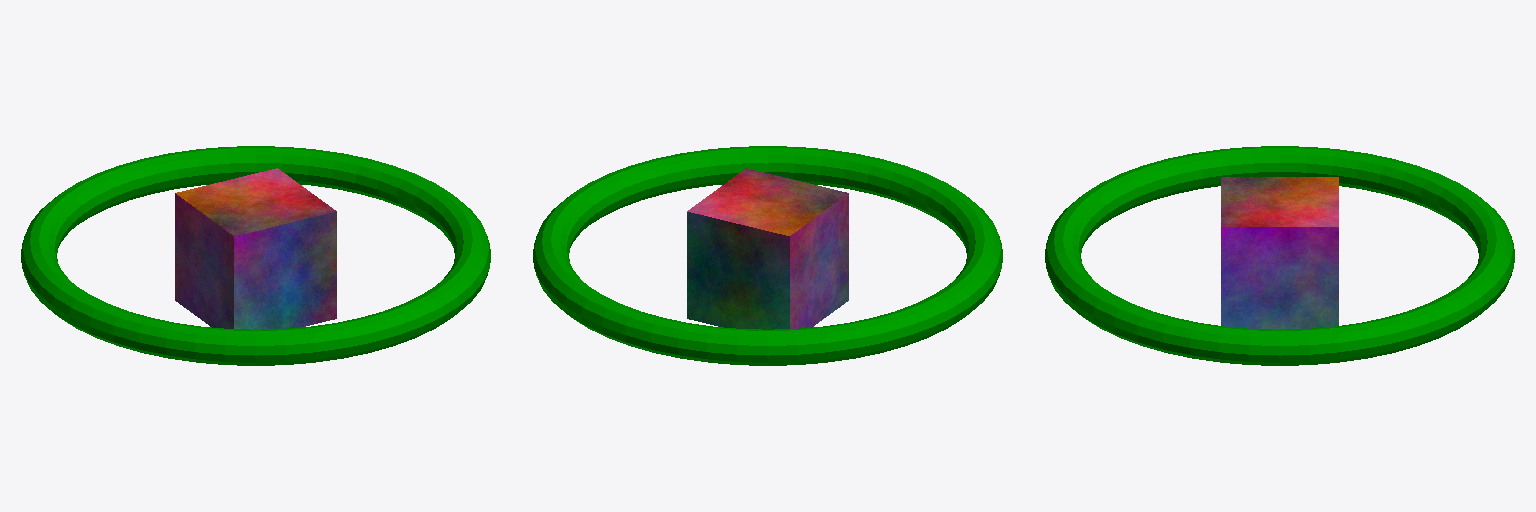
3 views of the same model, side by side, from view 1: azimuth 30°, elevation 25°; view 2: azimuth 150°, elevation 25°; view 3: azimuth 270°, elevation 25° (orthographic).
Visible parts, largest first — view 1: Torus, Cube; view 2: Torus, Cube; view 3: Torus, Cube.
Boxes of the visible parts, <box> form: Torus: <box>21,146,490,365</box>; Cube: <box>175,168,336,329</box>; Torus: <box>533,146,1002,365</box>; Cube: <box>687,168,848,329</box>; Torus: <box>1045,146,1514,365</box>; Cube: <box>1221,177,1338,329</box>.
Bounding box in the file's own units: 1.59 × 0.4 × 1.59.
Materials: 2 (1 with a texture image).